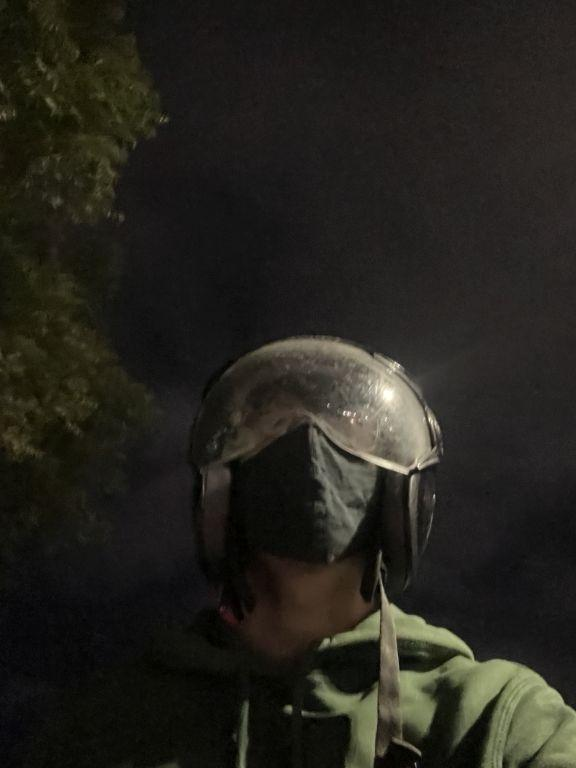helmet: (165, 314, 461, 622)
